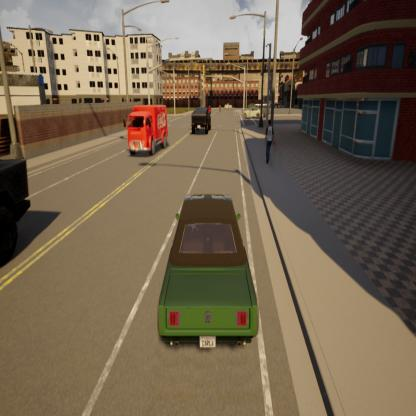Cars: (154, 190, 262, 362), (0, 154, 46, 270), (123, 101, 173, 164), (188, 106, 214, 136), (241, 106, 265, 122), (253, 102, 270, 120), (224, 101, 234, 112)
Pedestrian: (260, 114, 276, 168)
